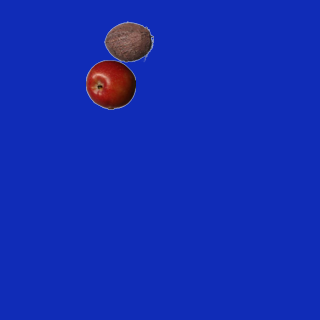Apple Braeburn: (85, 59, 135, 109)
Cocos: (103, 16, 153, 66)
